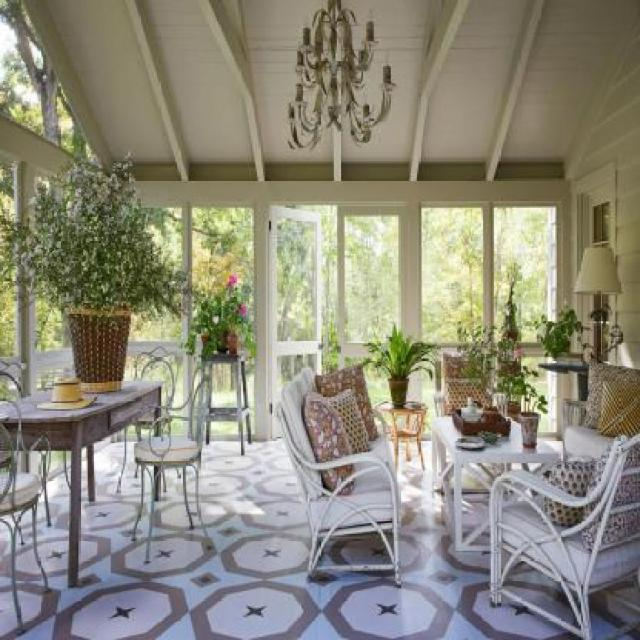Floor: (0, 438, 584, 640), (502, 564, 581, 630), (315, 538, 393, 567), (590, 601, 628, 639), (462, 493, 490, 539), (468, 526, 491, 545)
